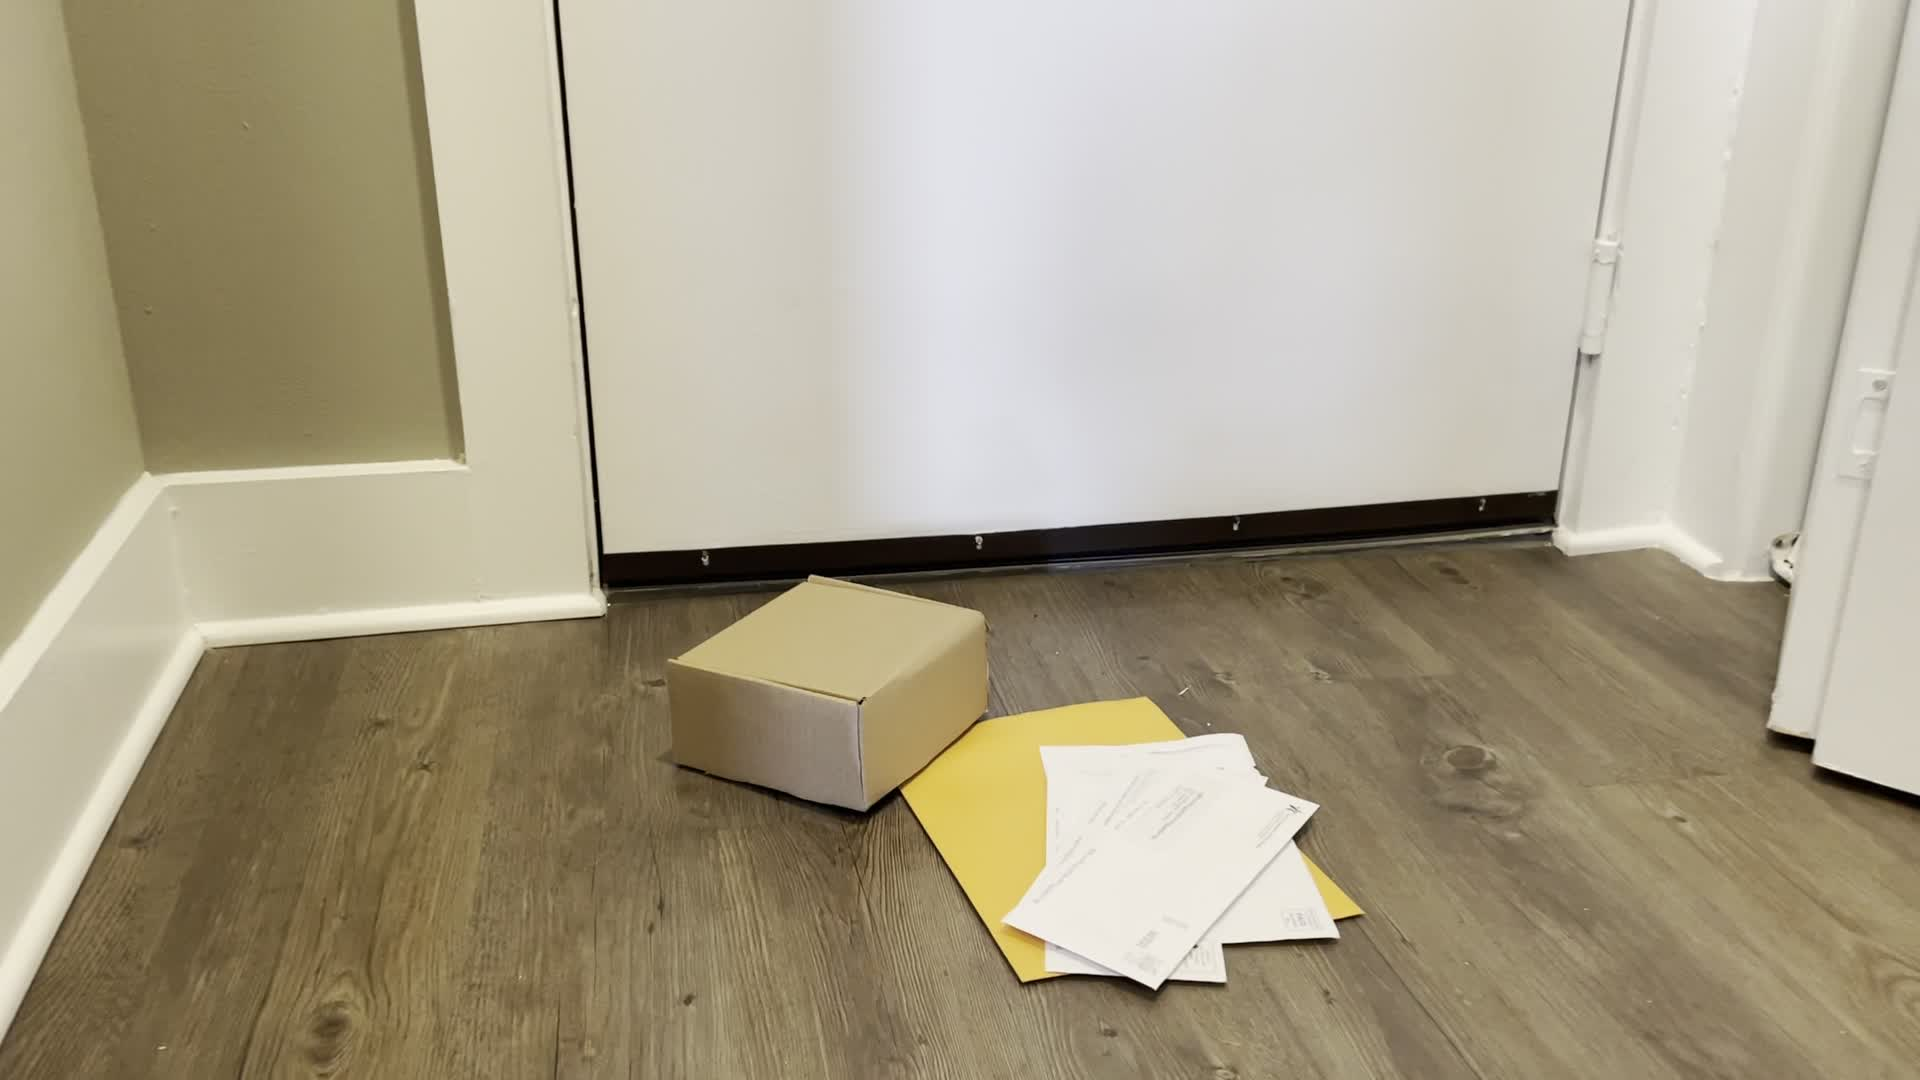box: (655, 560, 994, 824)
envelope: (891, 683, 1378, 993)
